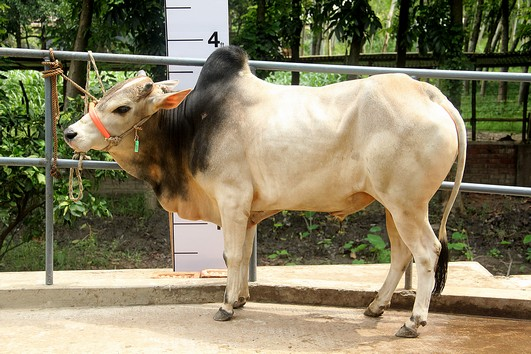cow: (52, 45, 467, 341)
